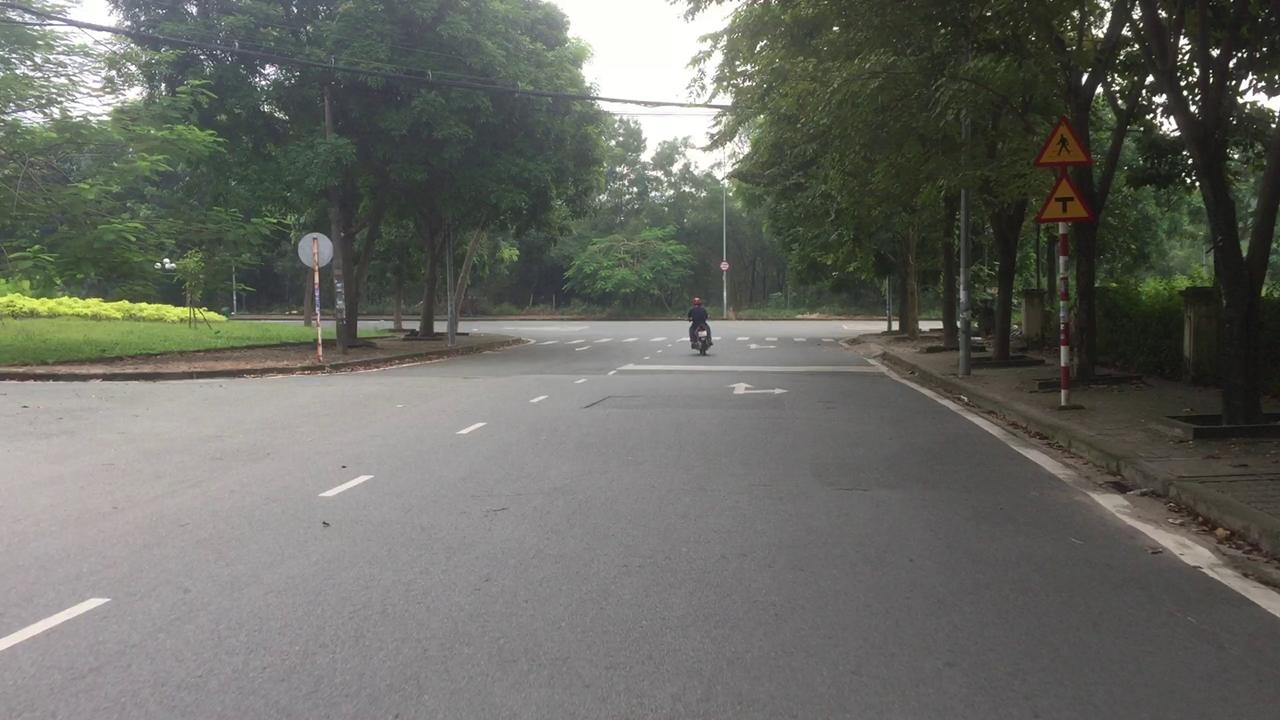P.124b: (1032, 114, 1092, 168)
P.125: (1036, 170, 1090, 226)
